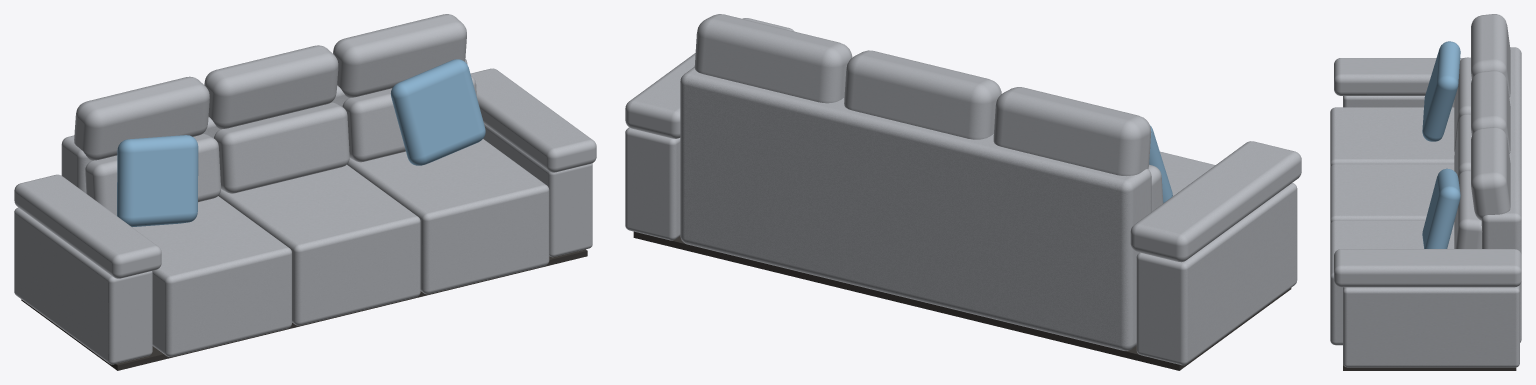
Rendered from ownRecliner.glb.
3 views of the same model, side by side, from view 1: azimuth 30°, elevation 25°; view 2: azimuth 150°, elevation 25°; view 3: azimuth 270°, elevation 25° (orthographic). The views are drawn at different scales.
Size of the model in its own units: 2.76 by 1.05 by 1.05.
Materials: 3 (1 with a texture image).
